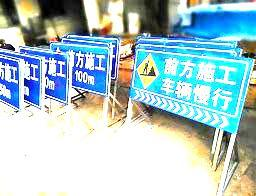sign: (134, 50, 244, 131), (73, 46, 108, 96), (45, 50, 67, 108), (23, 55, 43, 113), (1, 55, 18, 114)
